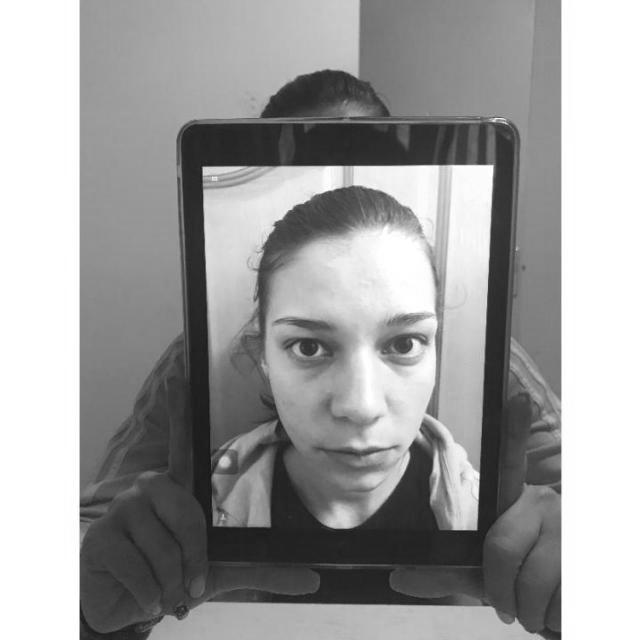fake: (166, 112, 526, 584)
